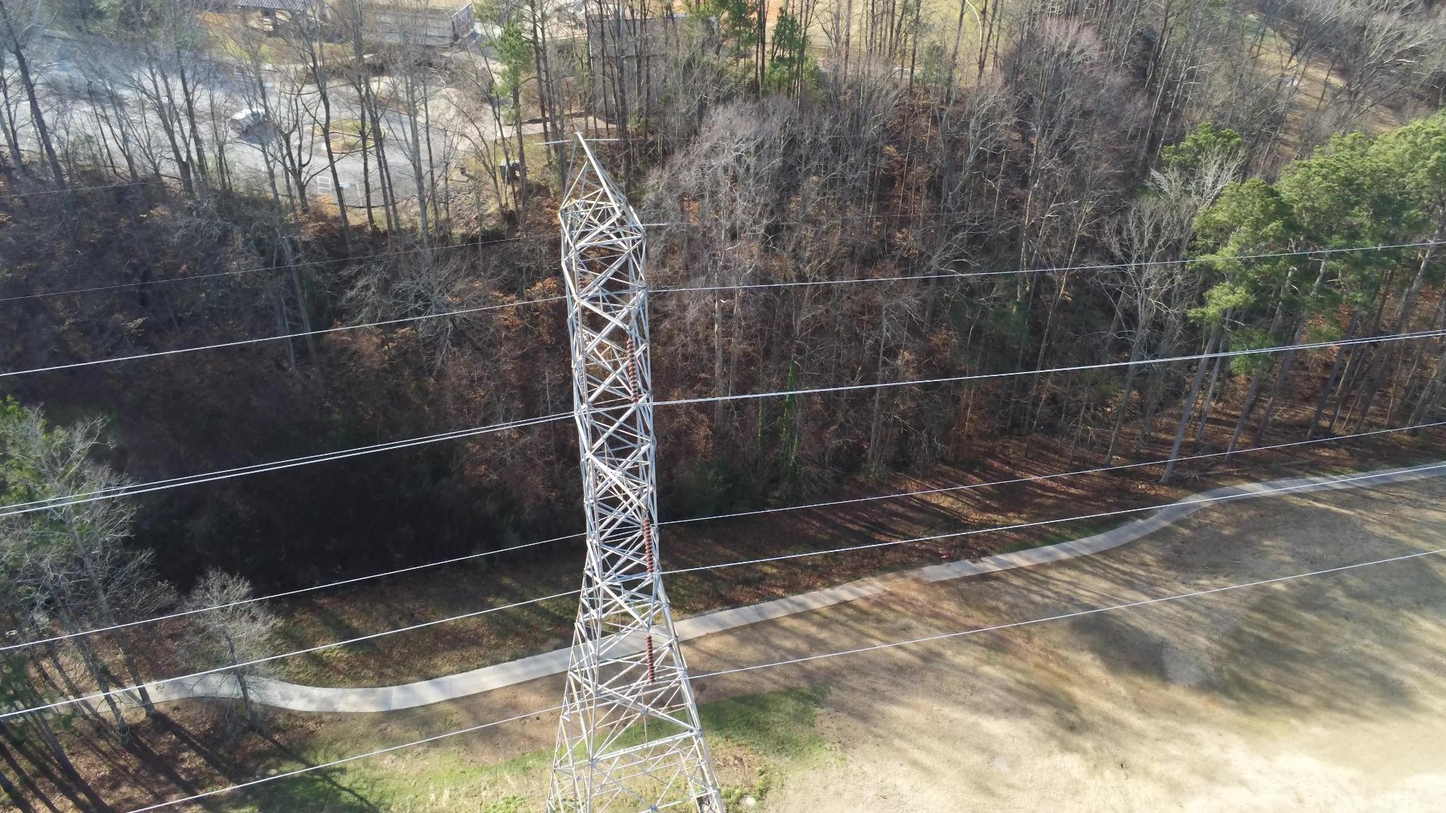tower: (543, 133, 728, 813)
